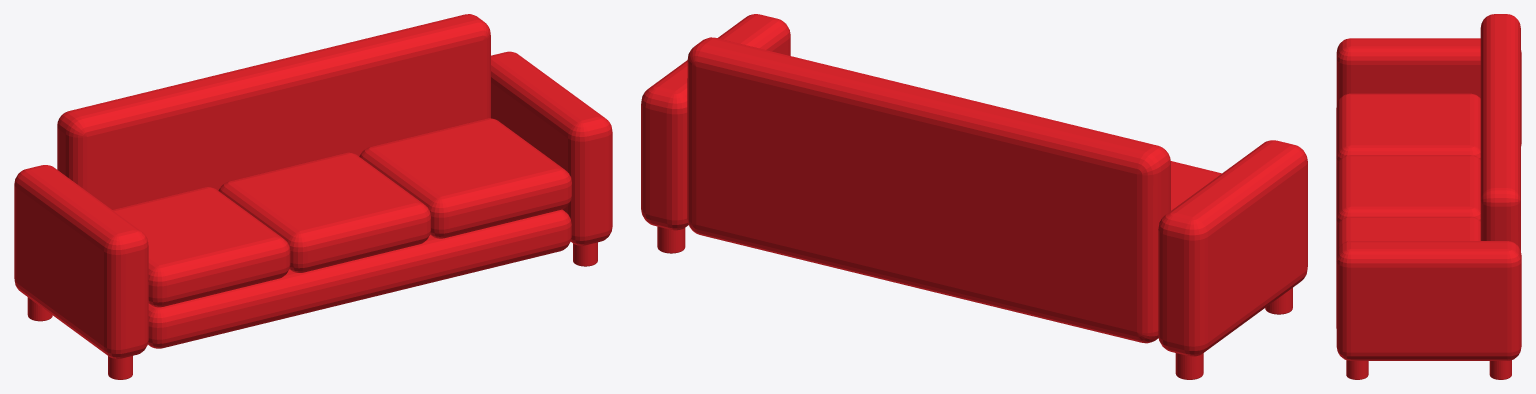
The model's file is Sofa.glb.
The picture shows the model from 3 angles, left to right: view 1: azimuth 30°, elevation 25°; view 2: azimuth 150°, elevation 25°; view 3: azimuth 270°, elevation 25°; orthographic projection. The views are drawn at different scales.
Visible parts, largest first — view 1: mesh_id11, mesh_id9, mesh_id10, mesh_id12, mesh_id13, mesh_id14, mesh_id8, mesh_id4, mesh_id6; view 2: mesh_id11, mesh_id9, mesh_id8, mesh_id14, mesh_id7, mesh_id5; view 3: mesh_id8, mesh_id11, mesh_id13, mesh_id14, mesh_id9, mesh_id12, mesh_id4, mesh_id5.
Boxes of the visible parts, x1,y1,x2,y2 form: mesh_id11: [57, 14, 490, 209]; mesh_id9: [14, 165, 148, 358]; mesh_id10: [148, 209, 571, 348]; mesh_id12: [359, 118, 571, 238]; mesh_id13: [218, 152, 430, 272]; mesh_id14: [112, 187, 290, 307]; mesh_id8: [491, 51, 612, 245]; mesh_id4: [573, 242, 597, 266]; mesh_id6: [108, 356, 132, 379]; mesh_id11: [687, 37, 1170, 343]; mesh_id9: [1158, 140, 1307, 356]; mesh_id8: [641, 14, 790, 230]; mesh_id14: [1170, 161, 1221, 210]; mesh_id7: [1175, 353, 1203, 379]; mesh_id5: [657, 226, 685, 253]; mesh_id8: [1336, 241, 1521, 360]; mesh_id11: [1480, 14, 1520, 250]; mesh_id13: [1336, 155, 1480, 229]; mesh_id14: [1336, 93, 1480, 168]; mesh_id9: [1336, 38, 1521, 145]; mesh_id12: [1336, 216, 1480, 291]; mesh_id4: [1346, 360, 1368, 379]; mesh_id5: [1489, 360, 1511, 379].
Bounding box in the file's own units: 0.512 × 0.1867 × 0.181.
11 materials, 11 textured.
